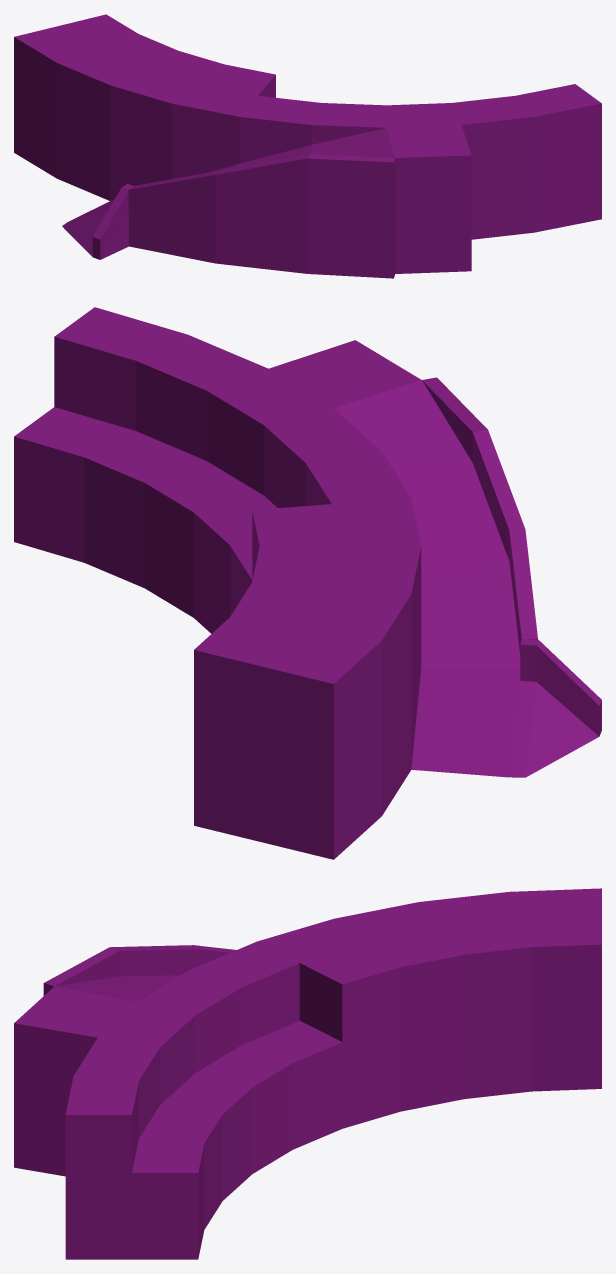
The model's file is outerwallnewnewouter.fbx.
3 views of the same model, one above another, from view 1: azimuth 30°, elevation 25°; view 2: azimuth 150°, elevation 25°; view 3: azimuth 270°, elevation 25° (orthographic). The views are drawn at different scales.
Visible parts, largest first — view 1: courtyard_outer_5; view 2: courtyard_outer_5; view 3: courtyard_outer_5.
Part boxes in pixels (<box>): courtyard_outer_5: <box>14,14,601,278</box>; courtyard_outer_5: <box>14,307,601,859</box>; courtyard_outer_5: <box>14,888,601,1259</box>.
Size of the model in its own units: 45.17 by 11.9 by 43.84.
